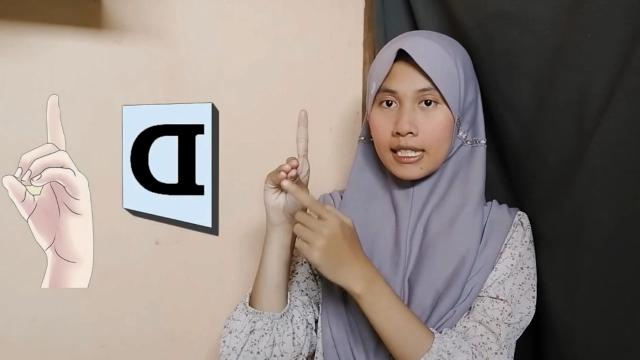D: (262, 110, 312, 232)
